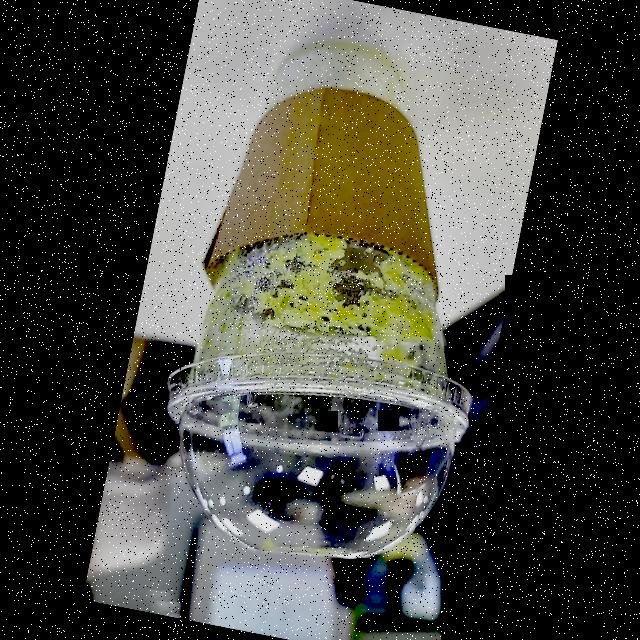plastic_cup: (136, 25, 534, 588)
plastic_cup_lid: (138, 320, 480, 590)
